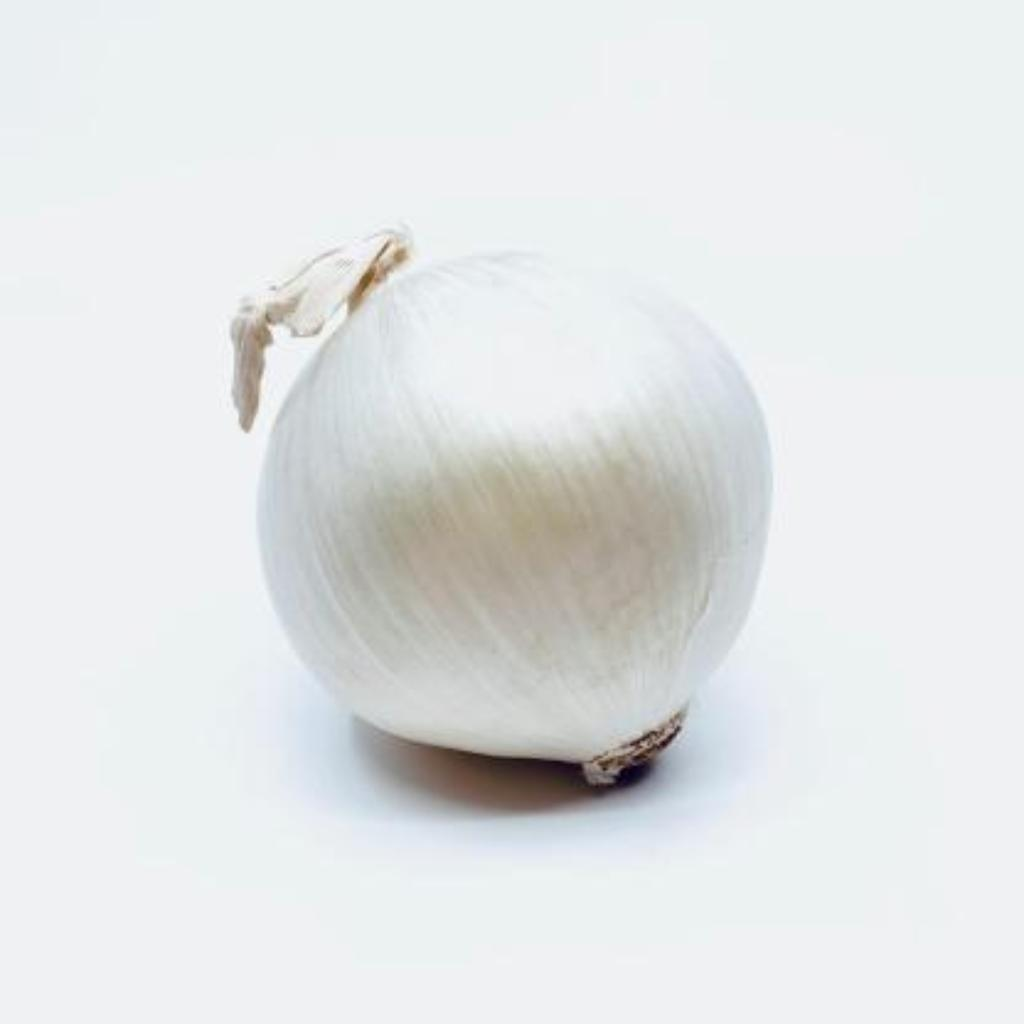Onion: (231, 229, 773, 789)
